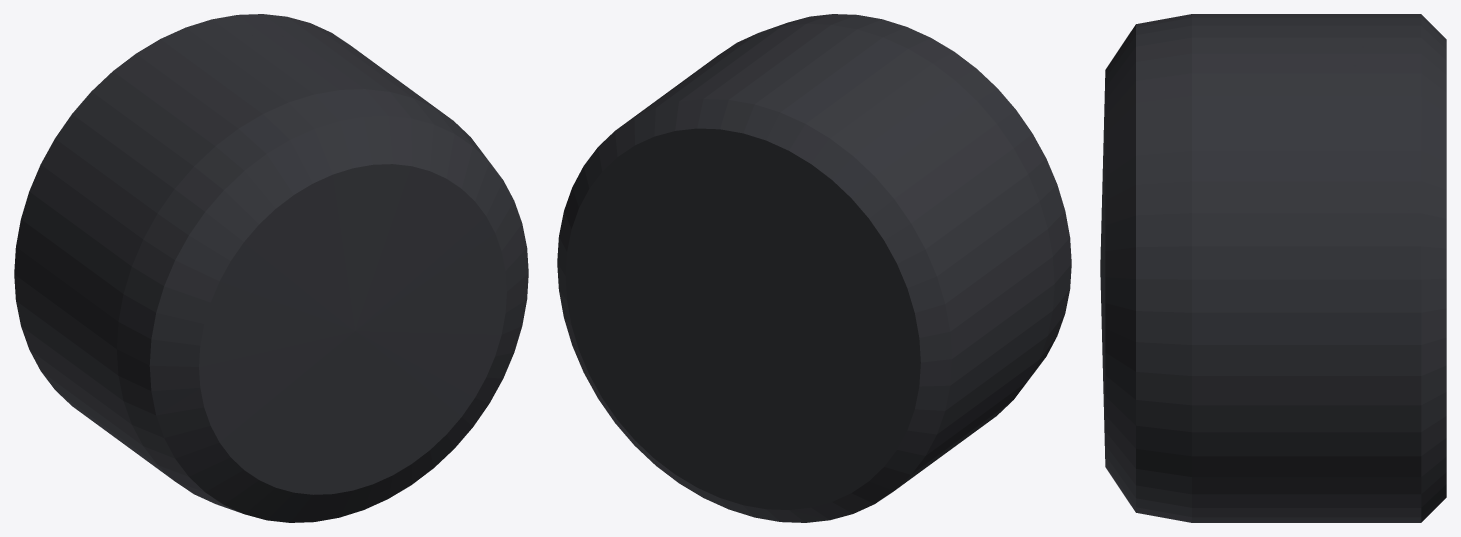
Rendered from plug_vis.obj.
3 views of the same model, side by side, from view 1: azimuth 30°, elevation 25°; view 2: azimuth 150°, elevation 25°; view 3: azimuth 270°, elevation 25° (orthographic). The views are drawn at different scales.
Size of the model in its own units: 0.05 by 0.05 by 0.034.
1 material, 1 textured.
